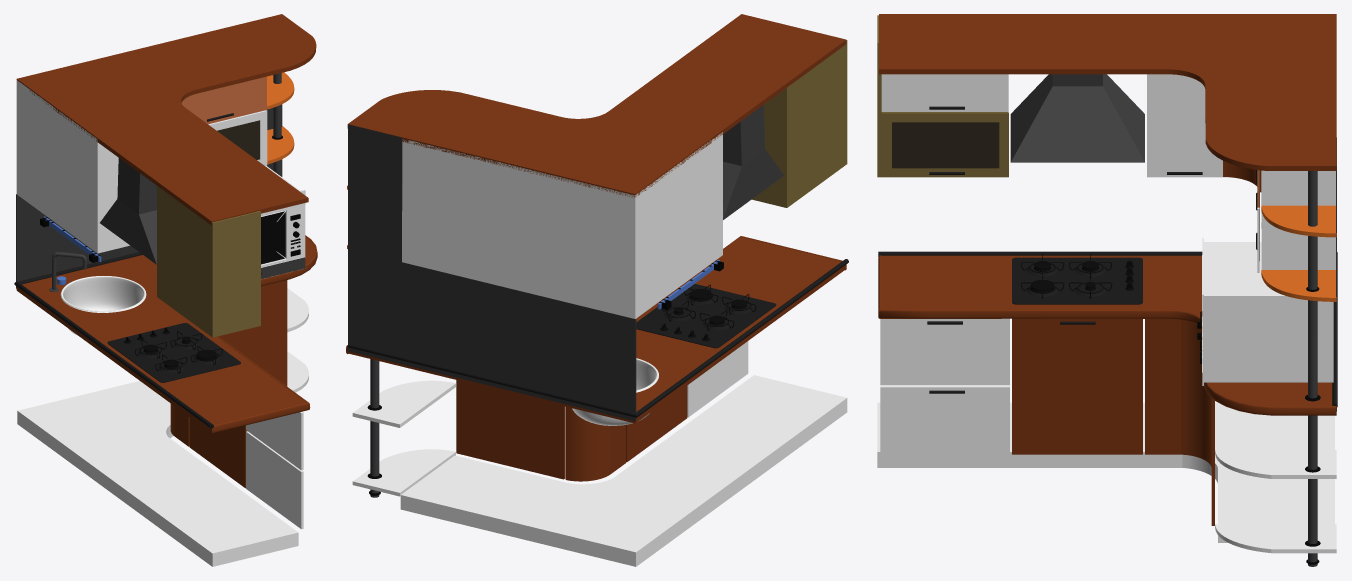
File: homeKitchenSink.FBX
The picture shows the model from 3 angles, left to right: view 1: azimuth 30°, elevation 25°; view 2: azimuth 150°, elevation 25°; view 3: azimuth 270°, elevation 25°; orthographic projection. The views are drawn at different scales.
Parts seen in each view (by area): view 1: 11, 48, 12, 28, 8, 17, 27, MASTERCOOK, 7, 15, Plane06, 40 (+15 smaller); view 2: 8, 27, 11, 48, 17, 12, 28, MASTERCOOK, 7, 20, 21, 34 (+4 smaller); view 3: 11, 17, 48, 12, Object014, 8 (×2), 7, 15, 14, MASTERCOOK, 3, Loft01 (+10 smaller).
Boxes of the visible parts, left/top/right/bottom form: 11: left=16, top=14, right=316, bottom=225; 48: left=17, top=381, right=298, bottom=566; 12: left=16, top=237, right=315, bottom=432; 28: left=157, top=186, right=260, bottom=337; 8: left=16, top=80, right=255, bottom=253; 17: left=170, top=280, right=287, bottom=488; 27: left=16, top=104, right=282, bottom=288; MASTERCOOK: left=107, top=323, right=240, bottom=382; 7: left=100, top=158, right=156, bottom=264; 15: left=246, top=431, right=303, bottom=529; Plane06: left=60, top=276, right=146, bottom=335; 40: left=181, top=76, right=266, bottom=124; 8: left=402, top=132, right=722, bottom=318; 27: left=348, top=124, right=636, bottom=421; 11: left=347, top=14, right=846, bottom=197; 48: left=400, top=375, right=847, bottom=566; 17: left=456, top=380, right=687, bottom=481; 12: left=347, top=237, right=846, bottom=423; 28: left=752, top=40, right=847, bottom=207; MASTERCOOK: left=636, top=284, right=776, bottom=348; 7: left=723, top=105, right=784, bottom=219; 20: left=352, top=380, right=455, bottom=427; 21: left=352, top=449, right=455, bottom=496; 34: left=347, top=259, right=848, bottom=417; 11: left=879, top=14, right=1336, bottom=170; 17: left=1012, top=318, right=1214, bottom=525; 48: left=877, top=402, right=1334, bottom=542; 12: left=881, top=255, right=1332, bottom=405; Object014: left=1202, top=238, right=1333, bottom=385; 8 (×2): left=1147, top=74, right=1335, bottom=269; 7: left=1010, top=74, right=1144, bottom=162; 15: left=880, top=386, right=1009, bottom=454; 14: left=880, top=318, right=1009, bottom=385; MASTERCOOK: left=1012, top=257, right=1142, bottom=304; 3: left=892, top=122, right=999, bottom=168; Loft01: left=878, top=255, right=1336, bottom=415.
Size of the model in its own units: 46.44 by 57.03 by 58.42.
